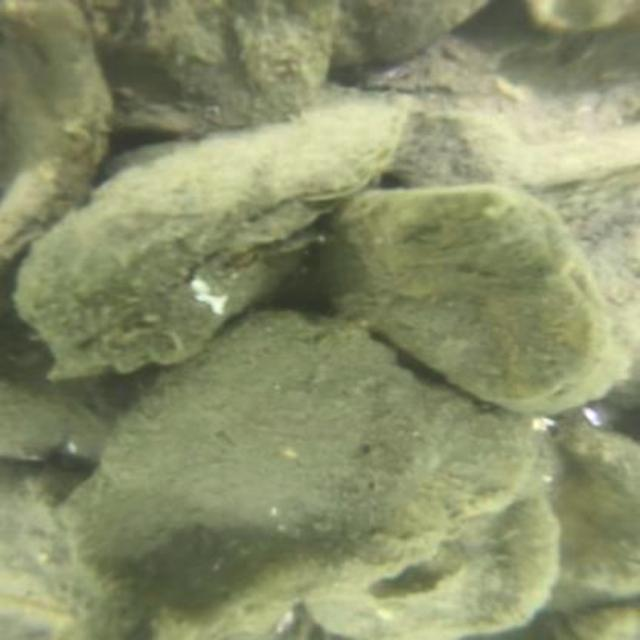Oyster-Closed: (67, 320, 541, 637), (13, 104, 422, 384), (325, 182, 601, 403), (299, 490, 556, 638), (330, 1, 496, 67)
